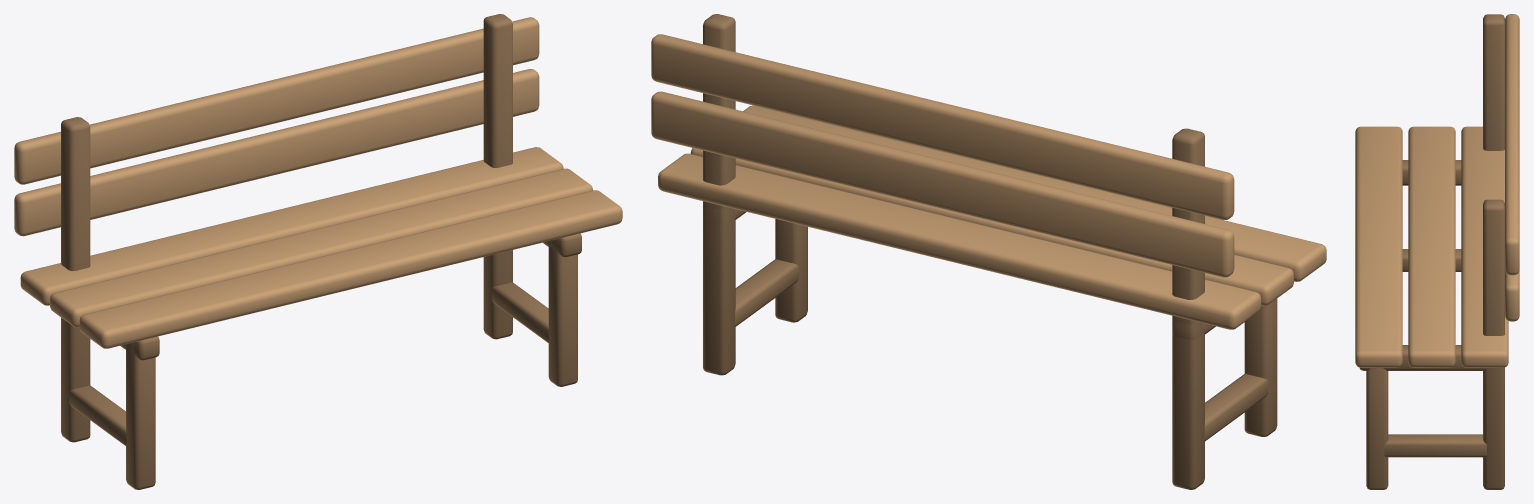
Rendered from Prop_Bench.fbx.
3 views of the same model, side by side, from view 1: azimuth 30°, elevation 25°; view 2: azimuth 150°, elevation 25°; view 3: azimuth 270°, elevation 25° (orthographic). The views are drawn at different scales.
Visible parts, largest first — view 1: Bench; view 2: Bench; view 3: Bench.
Part boxes in pixels (x1,y1,x2,y2): Bench: (14,14,622,489); Bench: (651,14,1326,489); Bench: (1355,14,1519,489).
Size of the model in its own units: 1.48 by 0.86 by 0.45.
